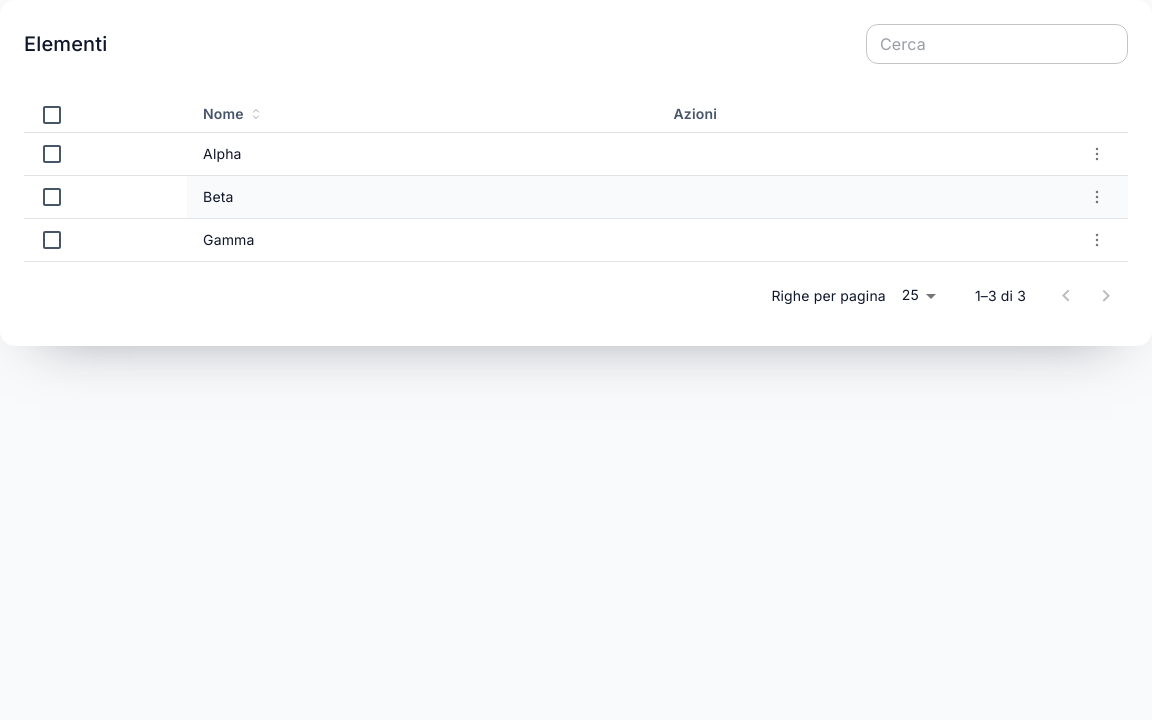
Test case: ListPage bulk selection › bulk-deletes all selected rows and refreshes
Expected: the text "Alpha" is shown, [187, 132, 658, 176]
What coordinates should you click on to do the following:
click the checkbox named "Seleziona tutte le righe"
I would click on:
 (52, 115)
Its box is [40, 103, 64, 127].
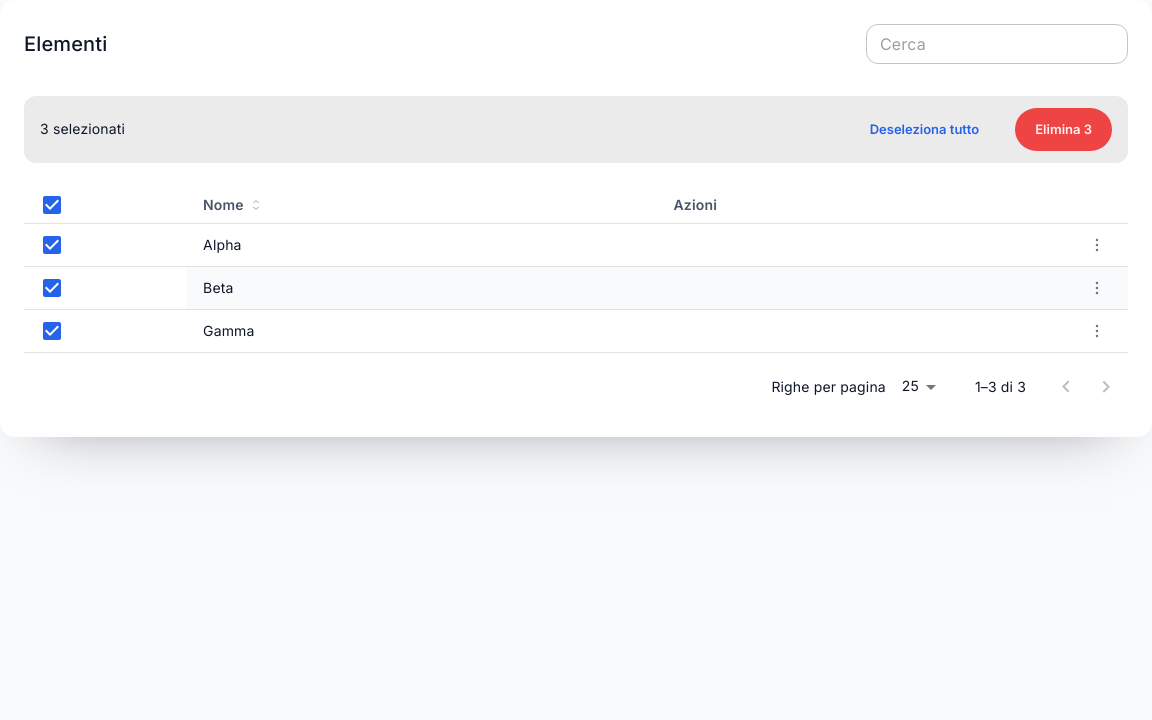
Now the text "3 selezionati" is shown, box [40, 118, 125, 141]
What coordinates should you click on to do the following:
click the button "Elimina 3"
I would click on:
 (1064, 129)
Its box is [1015, 108, 1112, 151].
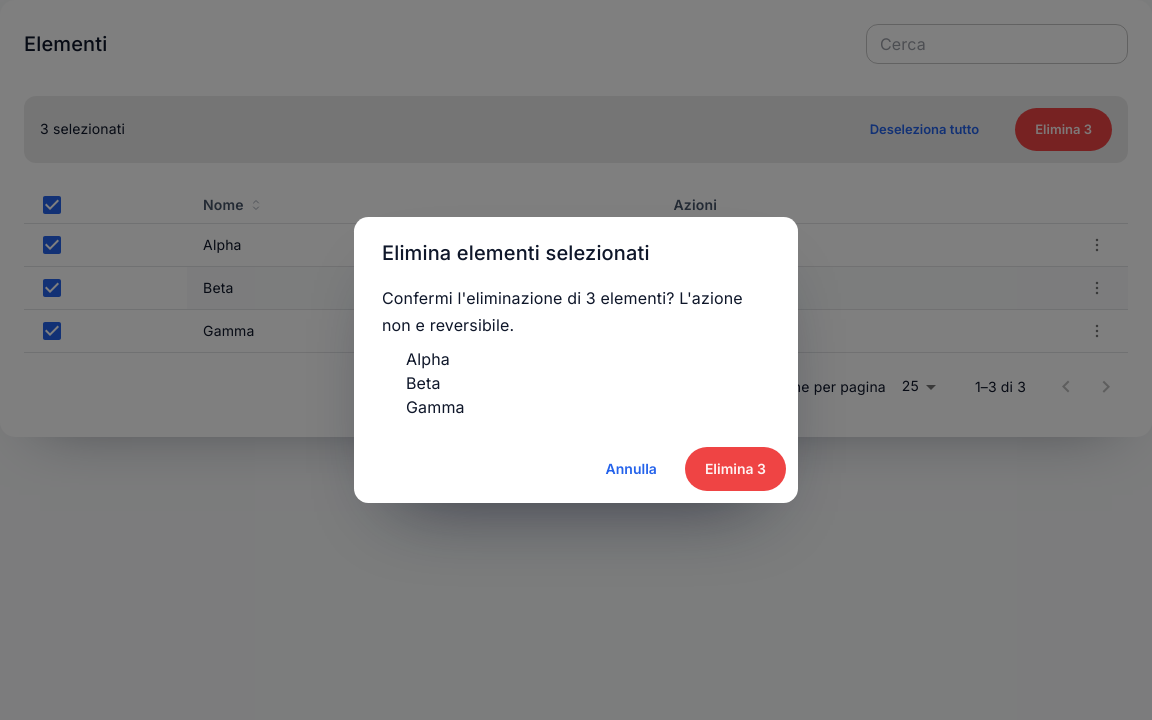
Now the list item "Alpha" is shown, box [406, 349, 450, 369]
What coordinates should you click on to do the following:
click the button "Elimina 3"
I would click on:
 (735, 469)
Its box is [685, 447, 786, 491].
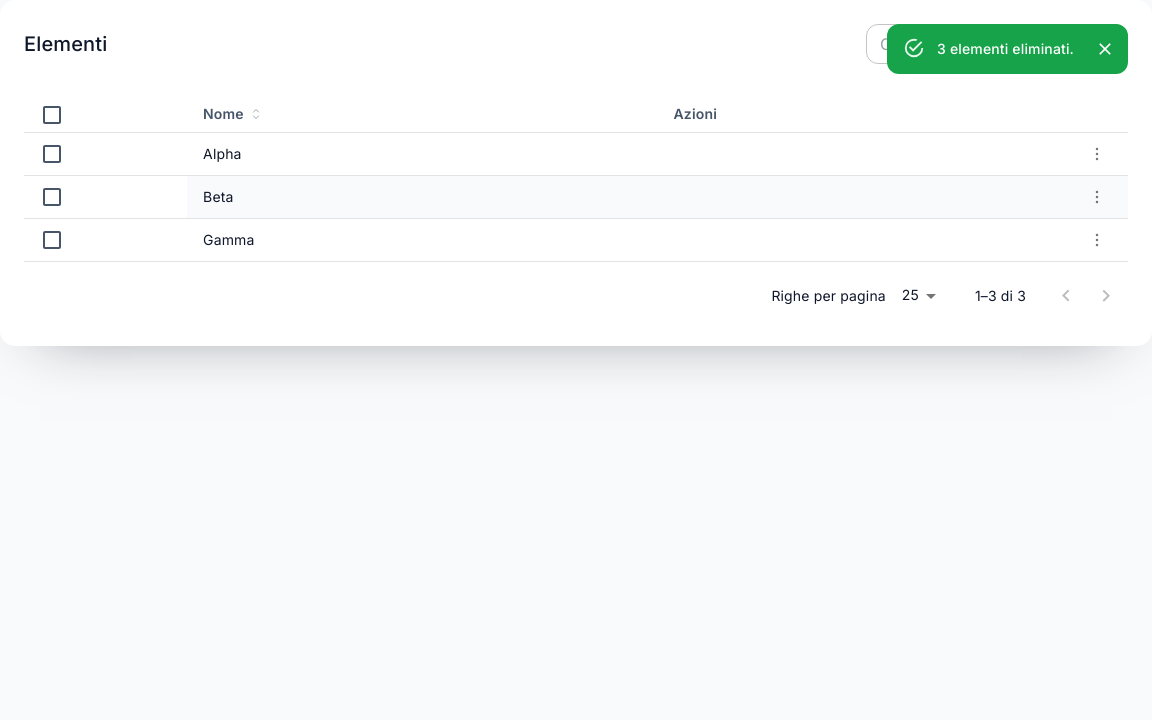
Now the text "3 elementi eliminati." is shown, box [937, 40, 1074, 57]
Now the text "selezionati" is gone
